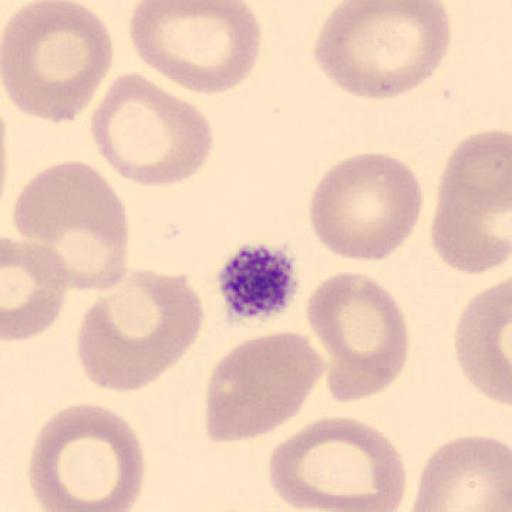Platelet: (216, 240, 302, 322)
RBC: (77, 266, 205, 394), (13, 160, 129, 294), (88, 69, 215, 189), (304, 270, 410, 404), (2, 0, 116, 124), (203, 330, 327, 444), (266, 414, 408, 512), (314, 1, 453, 101), (26, 402, 148, 512), (307, 150, 425, 263), (130, 0, 263, 96), (431, 127, 512, 274), (76, 295, 177, 393), (411, 433, 512, 512), (453, 277, 512, 407), (1, 235, 70, 342)
